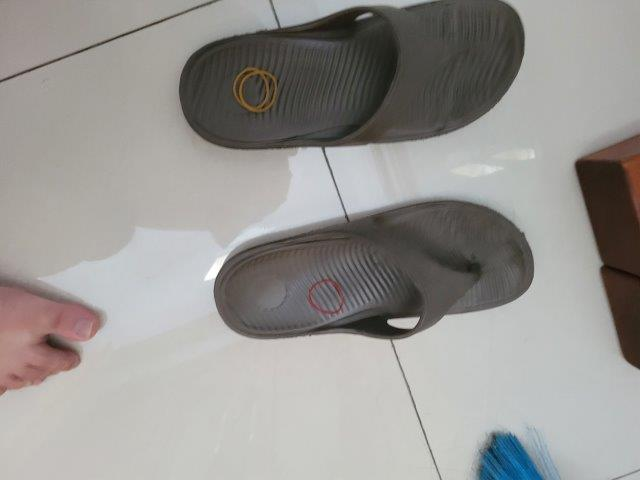karet: (231, 65, 280, 117), (307, 275, 347, 314)
